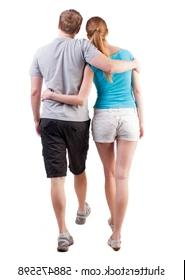Shorts: (37, 117, 90, 179), (91, 107, 140, 144)
short sleeve shirt: (28, 34, 98, 121)
vest: (86, 49, 135, 110)
